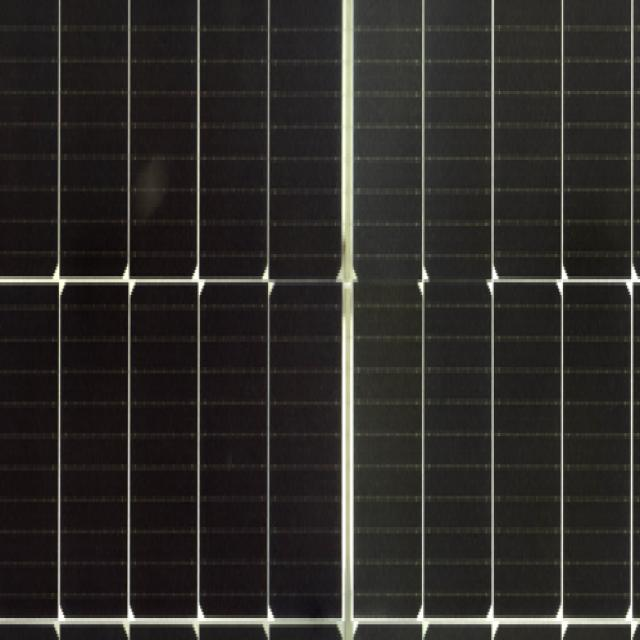CELL SHORT: (363, 262, 428, 302), (436, 271, 495, 300)
